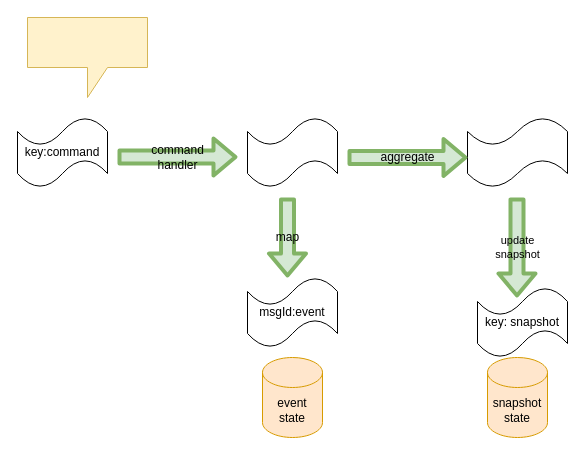
Image size: 585x455. Some labels were removed from this diagram. Here are the shapes that lost their labels. From the top down, the centre of each, then its label:
point 87,57: "key" is the unique identifier of the aggregate.
point 292,152: key:event
point 517,152: key:Array[event]
